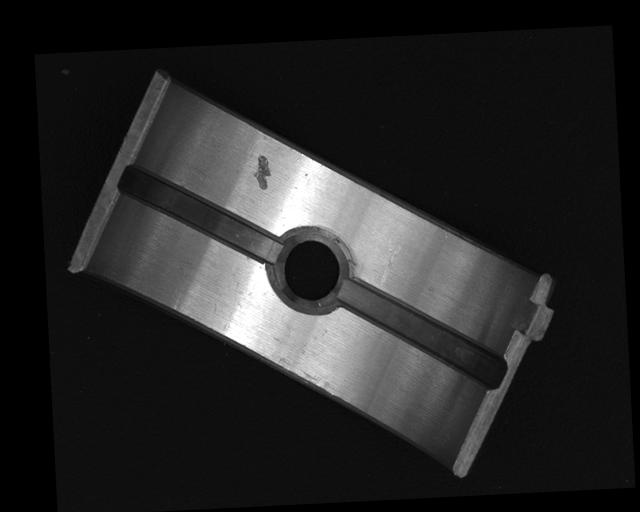bruise: (249, 152, 273, 191)
gap: (340, 269, 505, 398), (117, 156, 282, 269)
hole: (275, 225, 349, 310)
nick: (376, 237, 402, 287)
